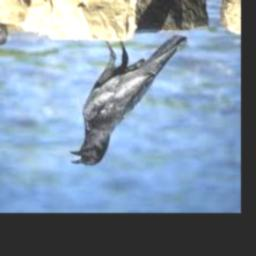Crow: (71, 34, 188, 166)
